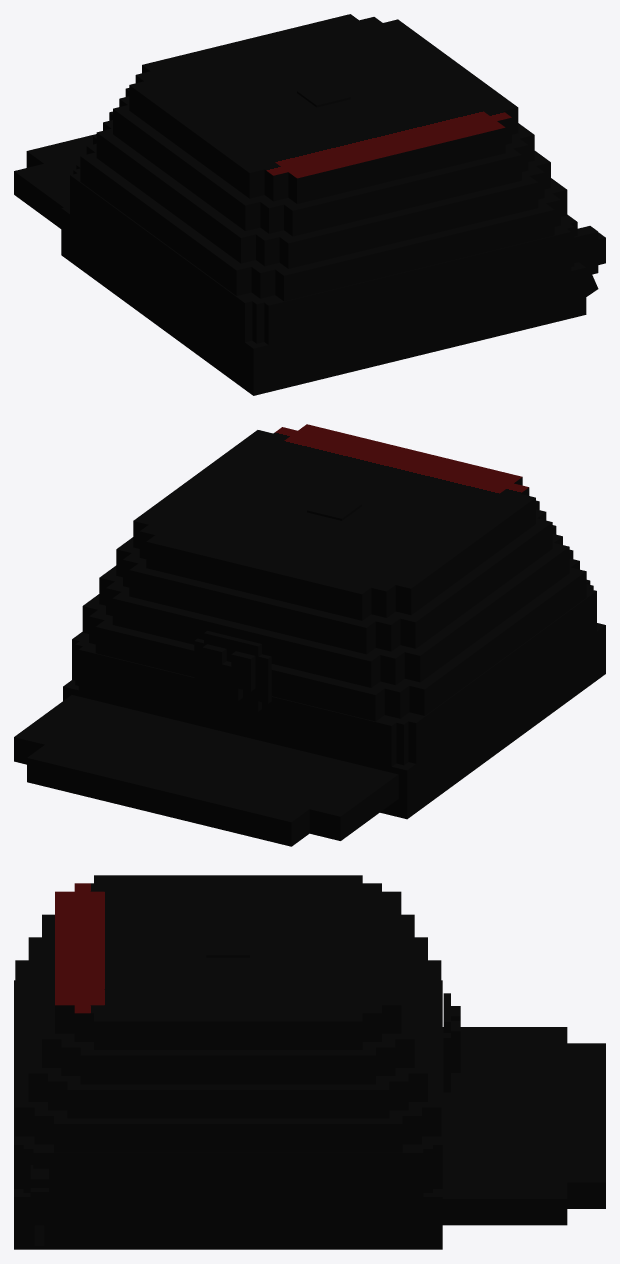
The model's file is hat_street_cap.obj.
3 renders of one model, top to bottom at view 1: azimuth 30°, elevation 25°; view 2: azimuth 150°, elevation 25°; view 3: azimuth 270°, elevation 25°, orthographic. The views are drawn at different scales.
Bounding box in the file's own units: 0.5984 × 0.3031 × 0.7641.
